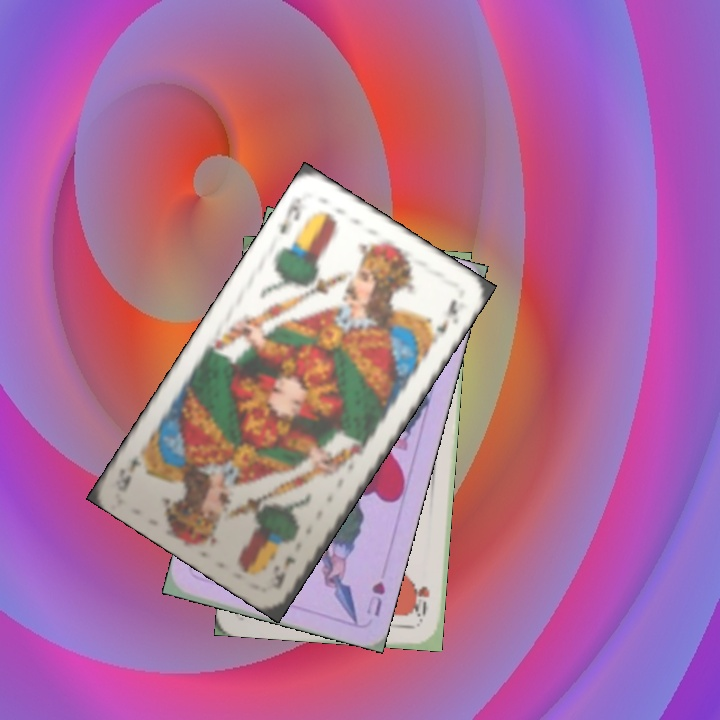EK: (275, 193, 311, 237), (265, 552, 298, 592)
HO: (409, 578, 433, 624)
HU: (362, 577, 388, 619)
